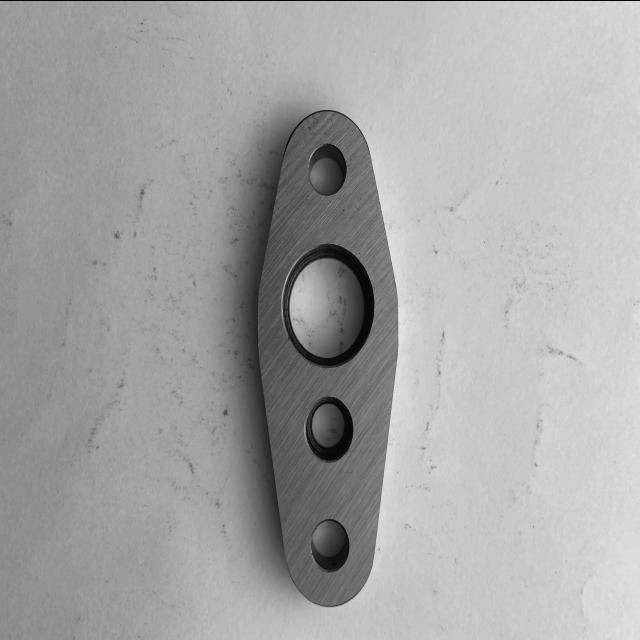lines: (307, 116, 332, 138)
